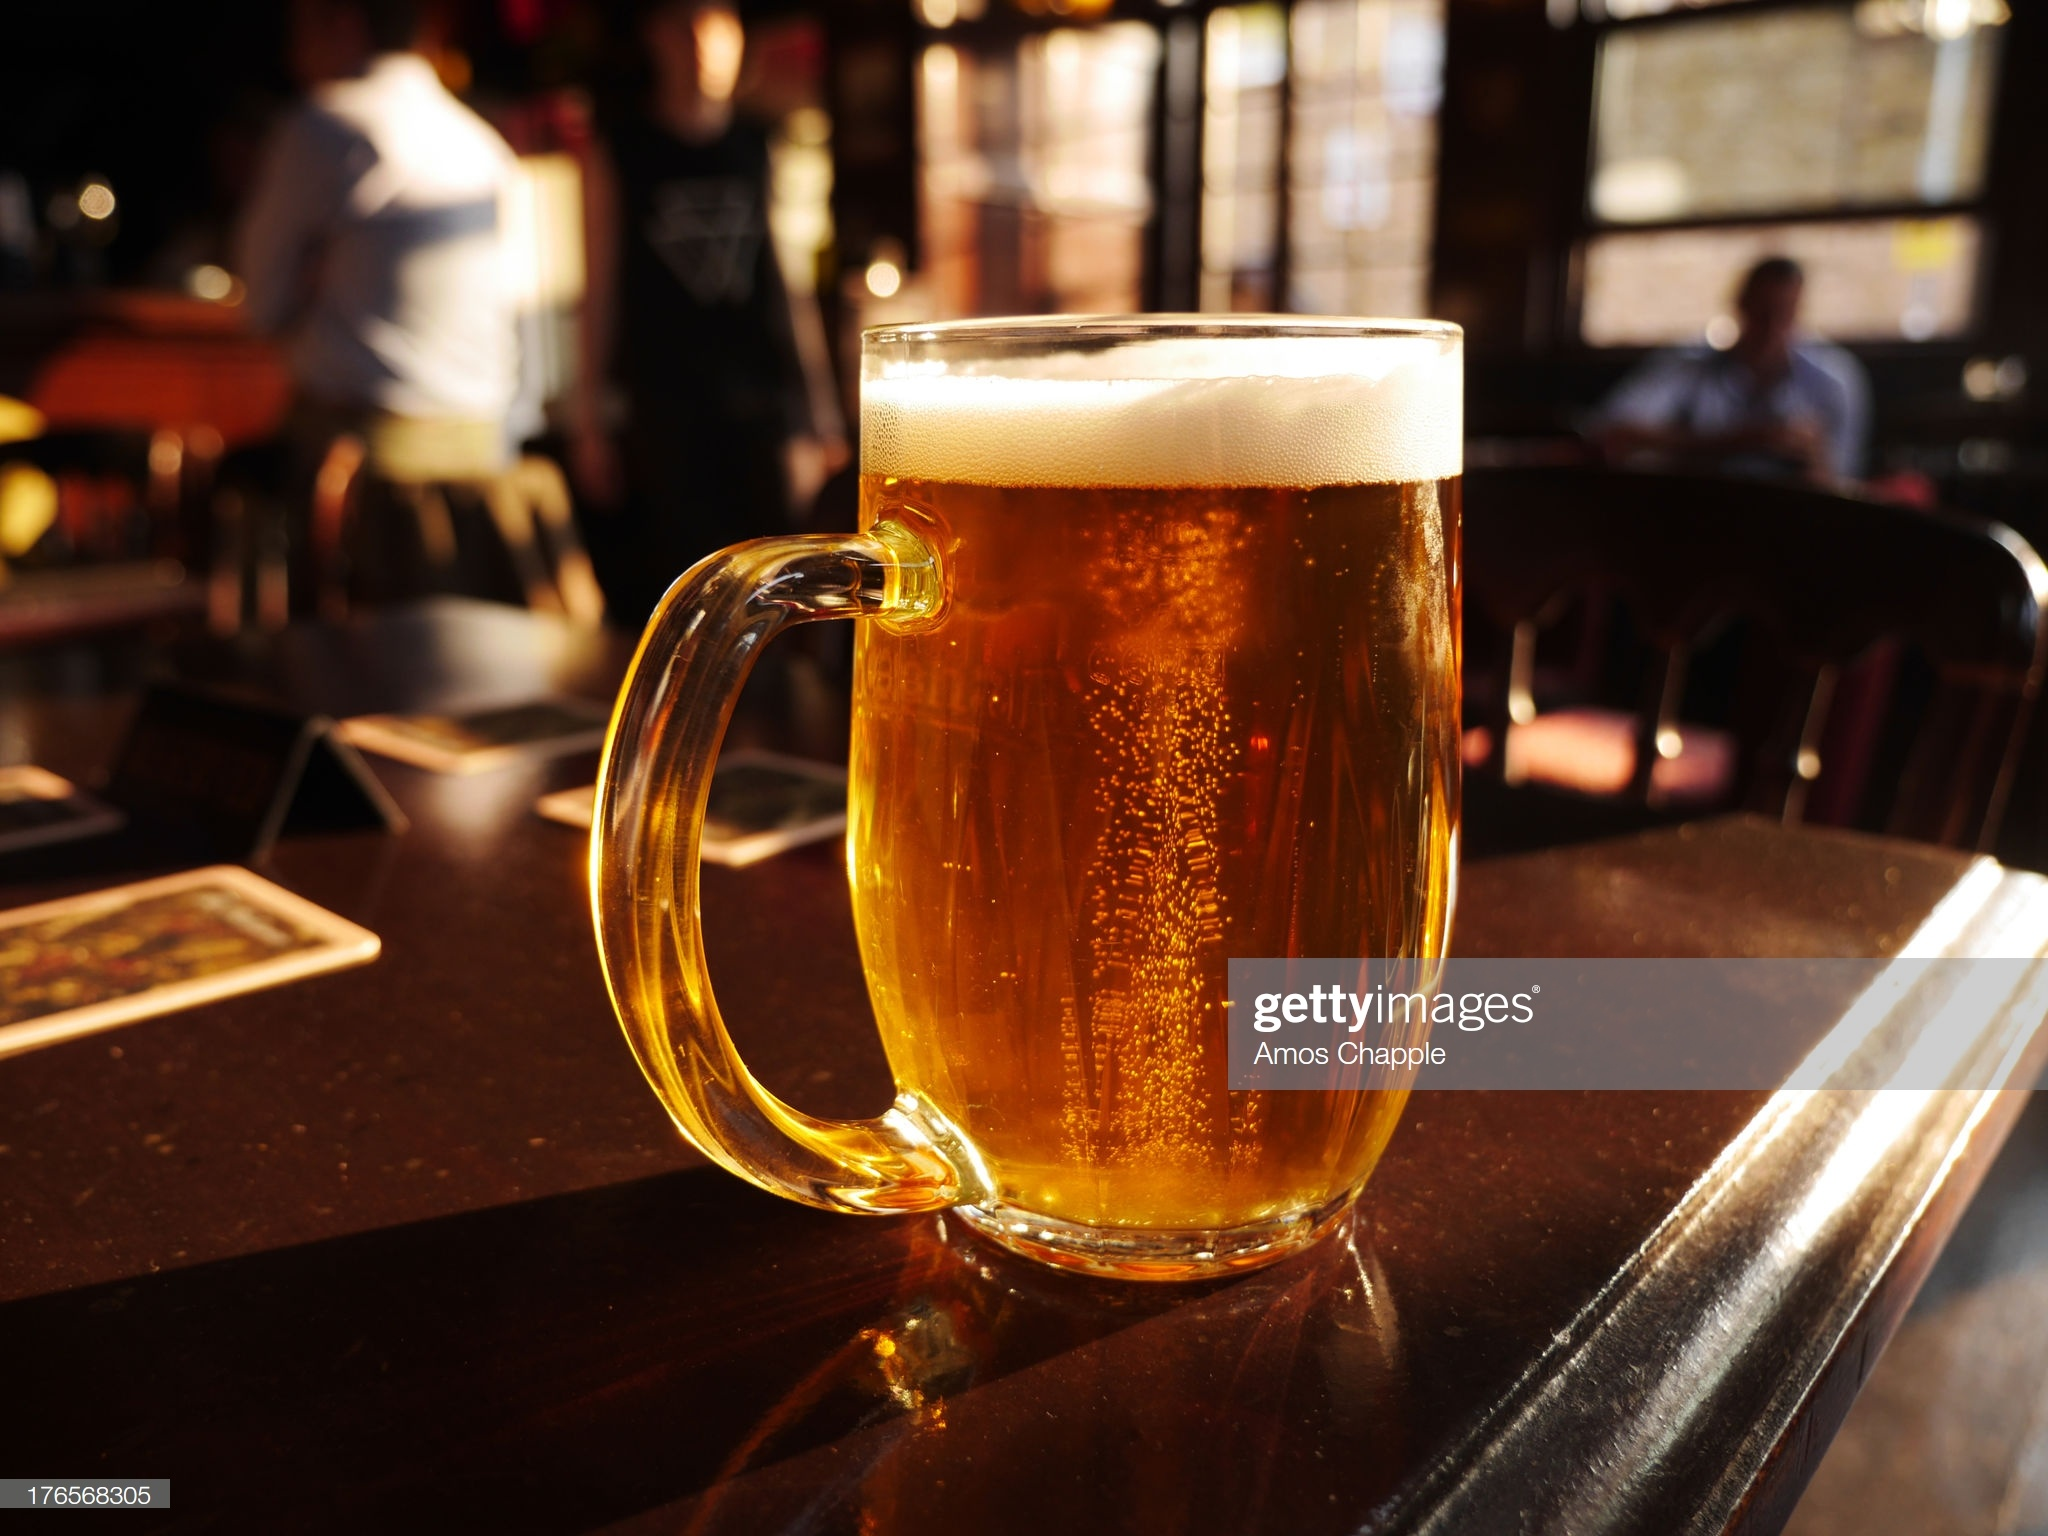glassBeer: (819, 290, 1492, 1258)
